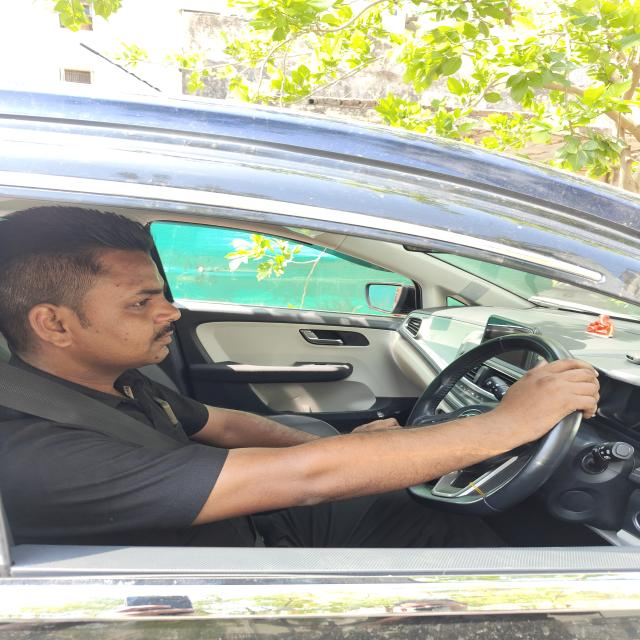seatbelt: (0, 362, 280, 543)
